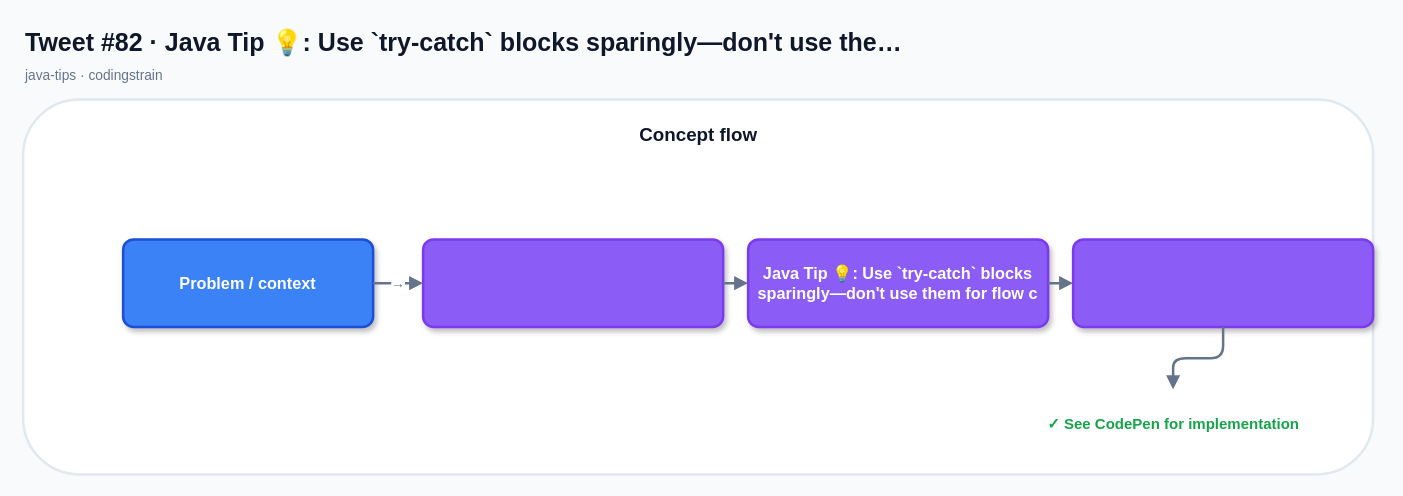
This 1403x496 diagram has some shape labels left out. The centre of each missing label's shape, as x and y in pixels:
Runnable sample: `java-tips`: point 1223,284
💡 Java Tip 💡: Use `try-catch` blocks sparingly—don't use them for flow: point 573,284
